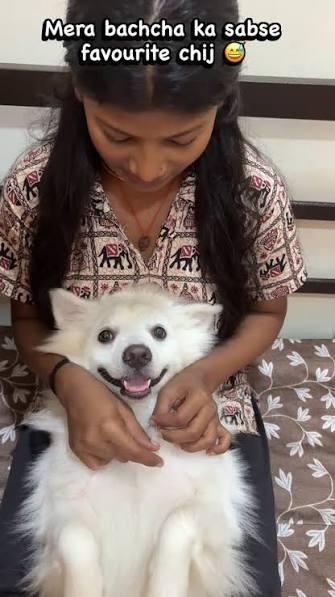adult_dog: (9, 280, 258, 597)
non-dog: (0, 0, 308, 597)
